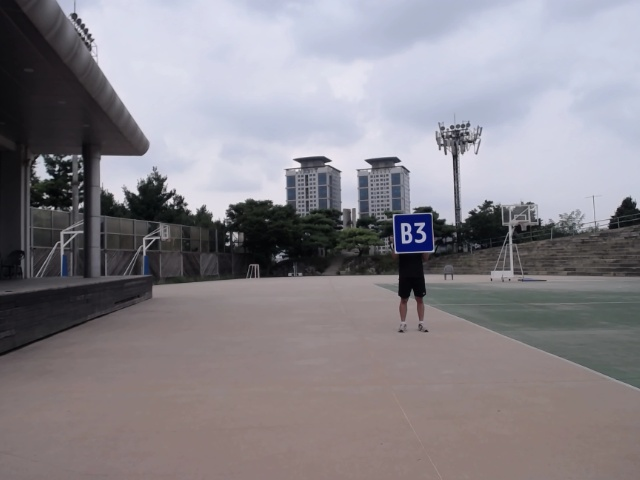delivery_b3: (392, 211, 437, 255)
